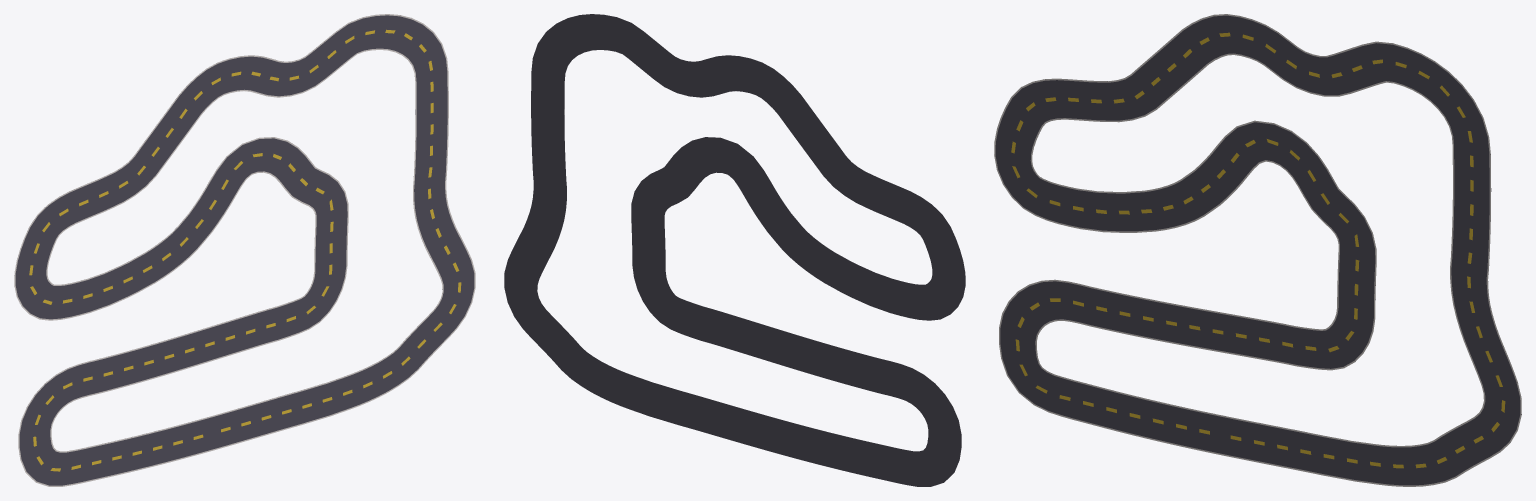
File: track.obj
The picture shows the model from 3 angles, left to right: view 1: azimuth 30°, elevation 25°; view 2: azimuth 150°, elevation 25°; view 3: azimuth 330°, elevation 25°; orthographic projection. The views are drawn at different scales.
Bounding box in the file's own units: 14.74 × 12.16 × 0.002.
Materials: 3 (3 with a texture image).
